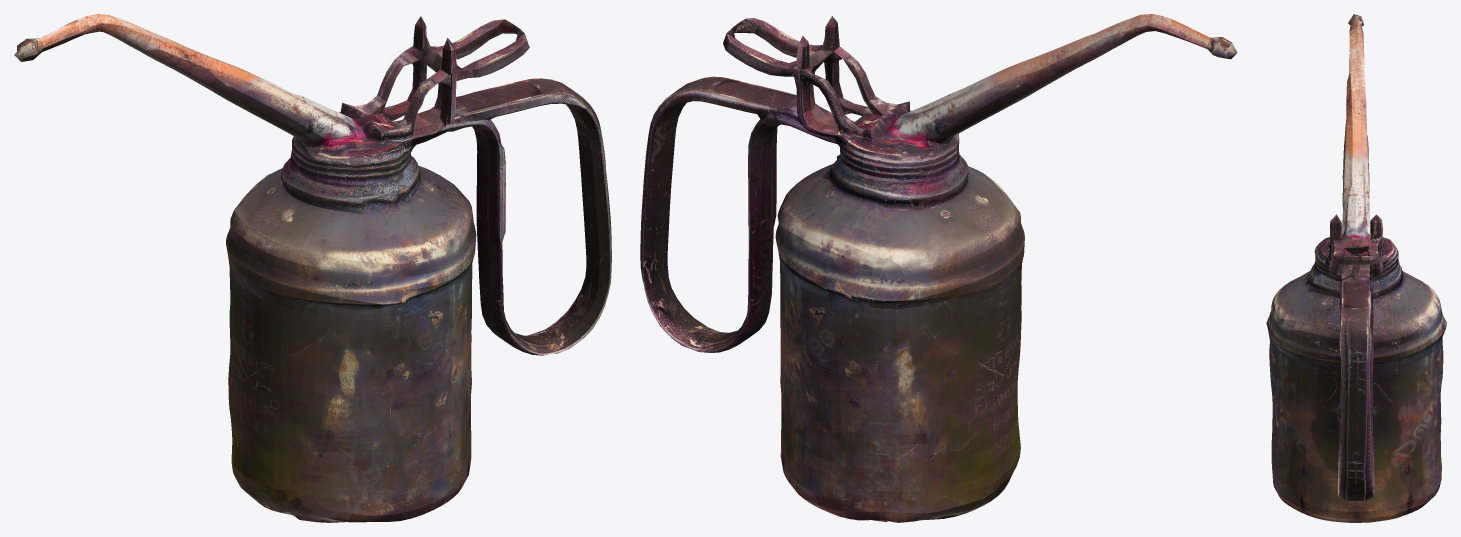
File: Meshy_AI_Rusty_Oil_Can_with_Pu_0423195851_texture.fbx
3 views of the same model, side by side, from view 1: azimuth 30°, elevation 25°; view 2: azimuth 150°, elevation 25°; view 3: azimuth 270°, elevation 25° (orthographic). The views are drawn at different scales.
Visible parts, largest first — view 1: temp; view 2: temp; view 3: temp.
Boxes of the visible parts, x1=… form: temp: x1=14, y1=14, x2=611, y2=522; temp: x1=640, y1=14, x2=1237, y2=522; temp: x1=1266, y1=14, x2=1446, y2=522.
Bounding box in the file's own units: 191 × 164 × 71.72.
1 material, 1 textured.
